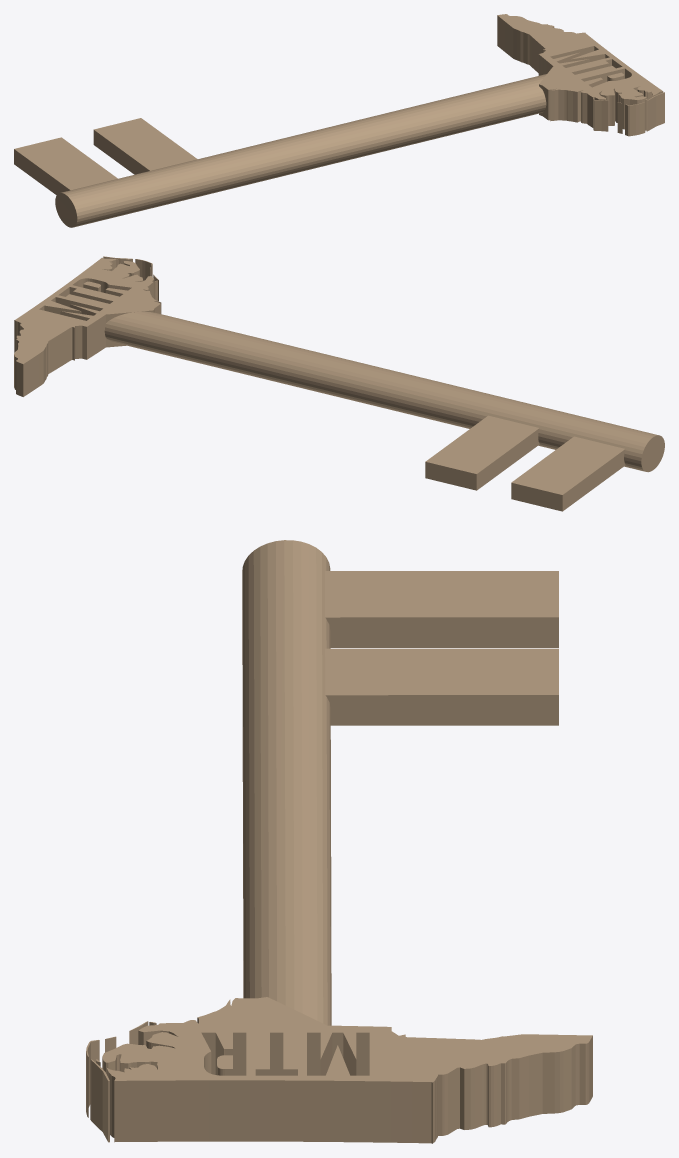
The model's file is MTRMagicKeyTrueOrigin.gltf.
3 views of the same model, one above another, from view 1: azimuth 30°, elevation 25°; view 2: azimuth 150°, elevation 25°; view 3: azimuth 270°, elevation 25° (orthographic). The views are drawn at different scales.
Visible parts, largest first — view 1: Mesh_Mesh_head_geo001_lambert2SG001; view 2: Mesh_Mesh_head_geo001_lambert2SG001; view 3: Mesh_Mesh_head_geo001_lambert2SG001.
Boxes of the visible parts, bbox=[...] form: Mesh_Mesh_head_geo001_lambert2SG001: bbox=[14, 14, 664, 227]; Mesh_Mesh_head_geo001_lambert2SG001: bbox=[14, 256, 664, 511]; Mesh_Mesh_head_geo001_lambert2SG001: bbox=[86, 540, 592, 1143].
Bounding box in the file's own units: 38 × 2 × 15.
